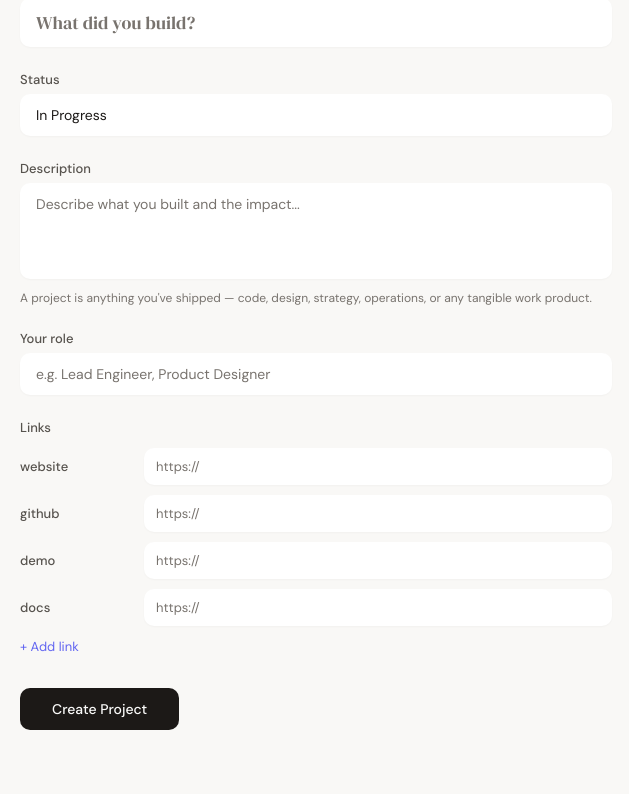
Test: NewProjectPage › adds a custom link row when clicking "+ Add link"
(page scrolled)
Check: the number of fields with placeholder "https://" is 4, box [144,448,612,485]; [144,495,612,532]; [144,542,612,579]; [144,589,612,626]
Step 1. Click the button "+ Add link" → (49, 646), box [20,638,79,655]
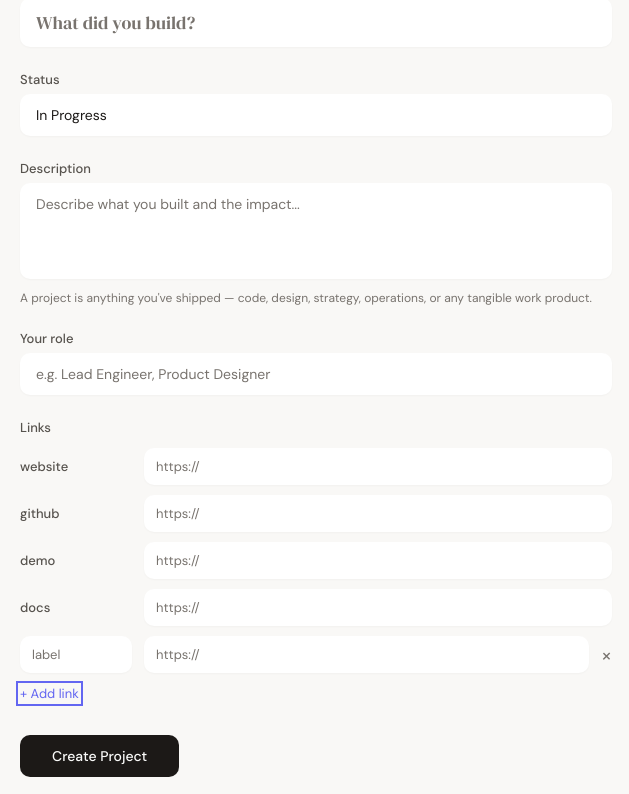
Check: the number of fields with placeholder "https://" is 5, box [144,448,612,485]; [144,495,612,532]; [144,542,612,579]; [144,589,612,626]; [144,636,589,673]
